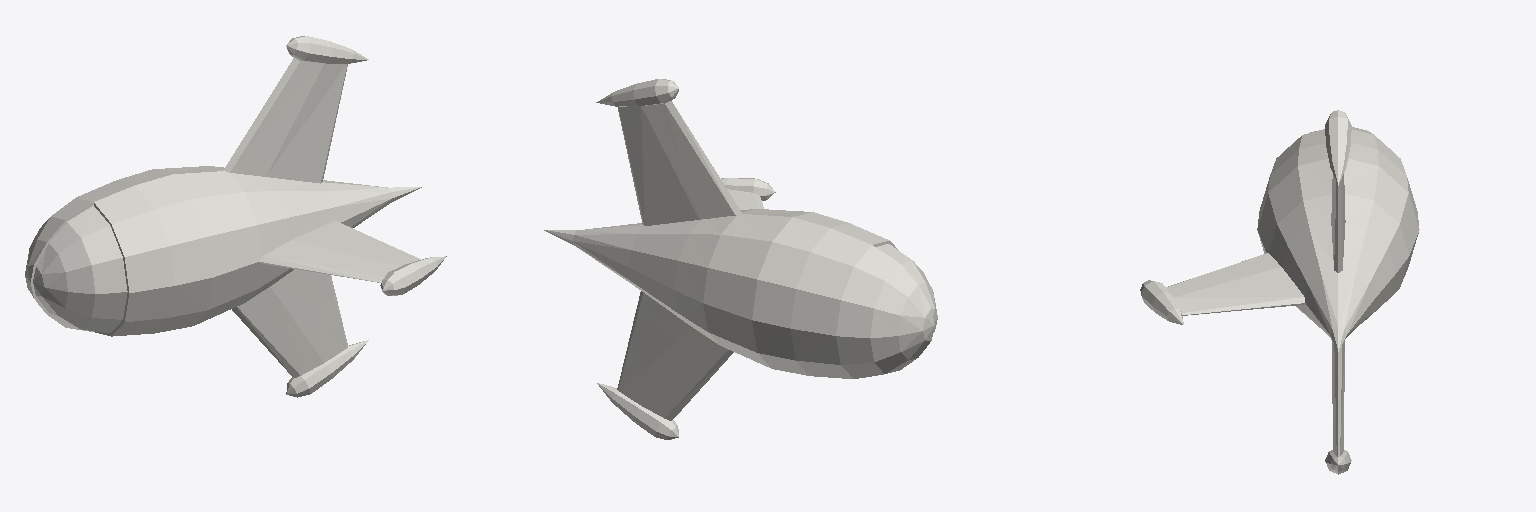
3 renders of one model, left to right at view 1: azimuth 30°, elevation 25°; view 2: azimuth 150°, elevation 25°; view 3: azimuth 270°, elevation 25°, orthographic.
Parts seen in each view (by area): view 1: Object.2, Object.7, Object.1, Object.3, Object.5, Object.8, Object.4, Object.6; view 2: Object.2, Object.7, Object.3, Object.8, Object.4, Object.1, Object.6; view 3: Object.2, Object.5, Object.8, Object.3, Object.7, Object.6.
Boxes of the visible parts, box(x1,y1,x2,y2) form: Object.2: box(25, 166, 421, 336); Object.7: box(223, 58, 347, 183); Object.1: box(33, 205, 127, 332); Object.3: box(232, 269, 347, 377); Object.5: box(259, 221, 420, 282); Object.8: box(286, 36, 368, 63); Object.4: box(286, 340, 368, 397); Object.6: box(380, 256, 446, 295); Object.2: box(544, 209, 934, 378); Object.7: box(618, 101, 741, 225); Object.3: box(617, 291, 733, 420); Object.8: box(596, 79, 678, 106); Object.4: box(597, 383, 678, 439); Object.1: box(876, 244, 937, 332); Object.6: box(721, 178, 775, 200); Object.2: box(1257, 127, 1419, 351); Object.5: box(1166, 253, 1304, 315); Object.8: box(1325, 110, 1351, 185); Object.3: box(1331, 339, 1344, 456); Object.7: box(1331, 174, 1345, 272); Object.6: box(1140, 280, 1183, 324).
Bounding box in the file's own units: 3191 × 2790 × 1967.
1 materials, 1 textured.